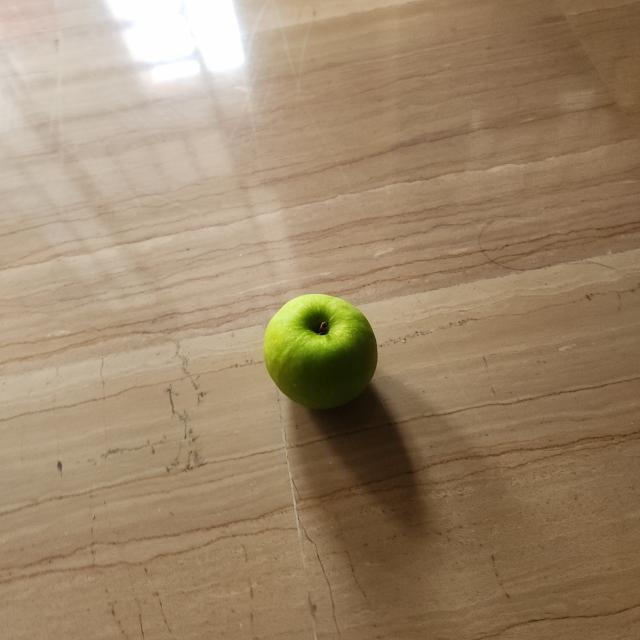apple: (256, 286, 389, 431)
